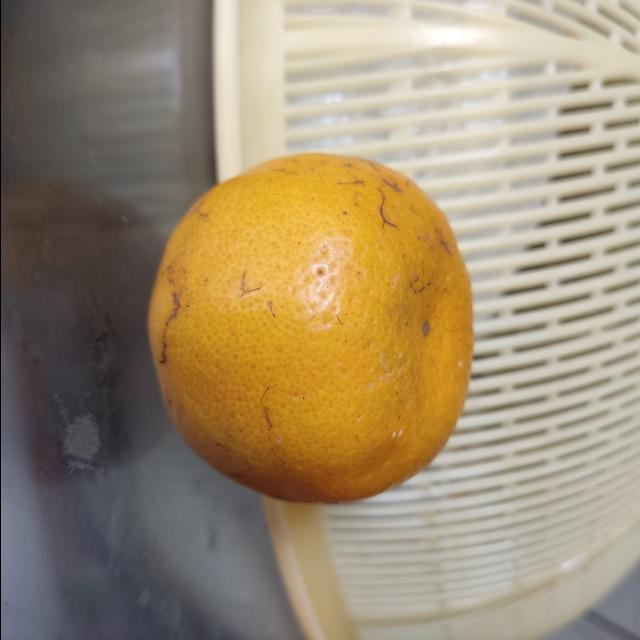agrume: (144, 148, 476, 510)
